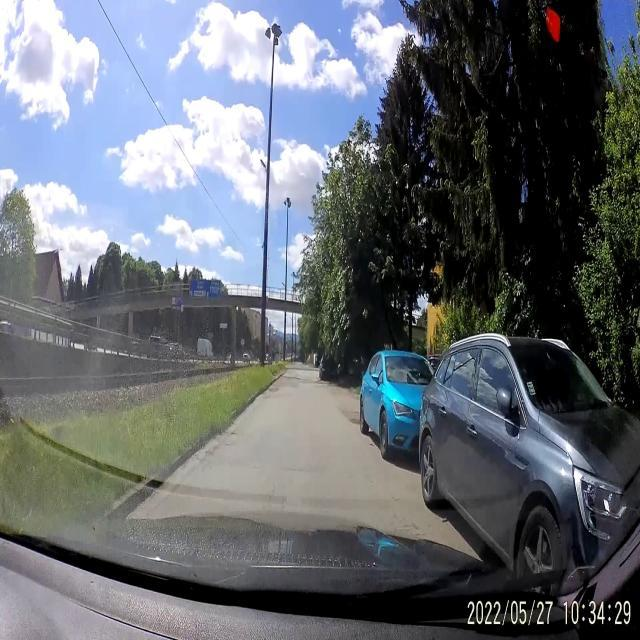Pothole: (338, 402, 360, 429), (268, 384, 282, 396)
